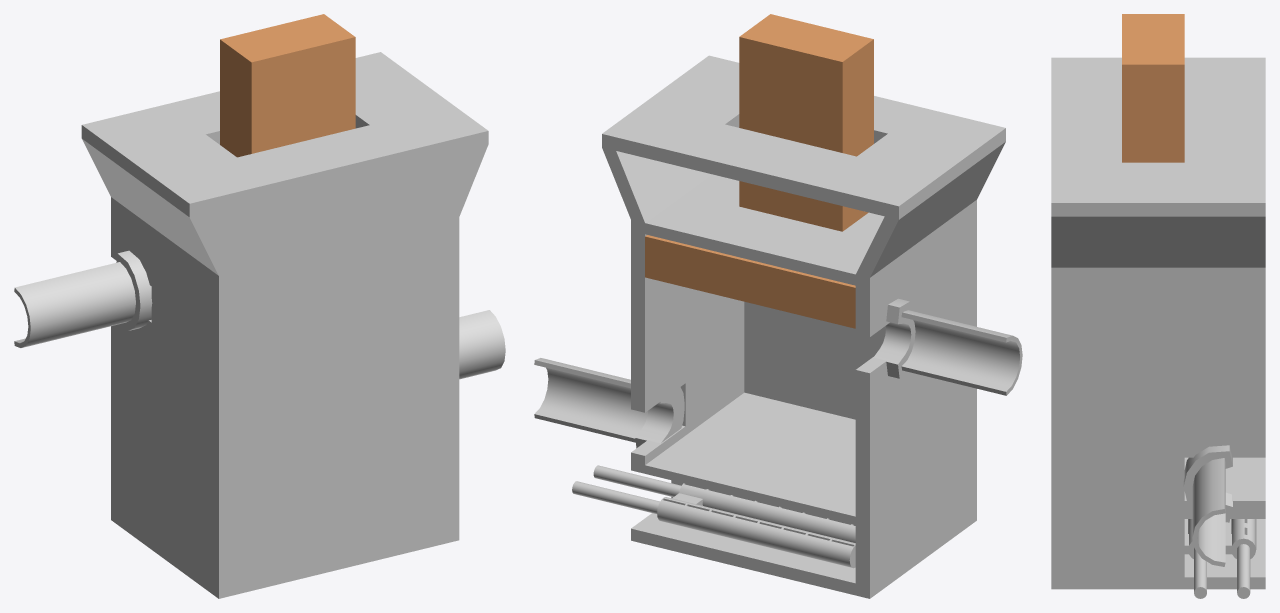
Rendered from SuperChargerREV0805.fbx.
3 views of the same model, side by side, from view 1: azimuth 30°, elevation 25°; view 2: azimuth 150°, elevation 25°; view 3: azimuth 270°, elevation 25° (orthographic).
Parts seen in each view (by area): view 1: main body, PISTON, our source pipe, source pipe; view 2: main body, PISTON, gas source, our source pipe, source pipe; view 3: main body, PISTON, source pipe, gas source.
Boxes of the visible parts, x1=… form: main body: x1=81, y1=52, x2=488, y2=598; PISTON: x1=220, y1=14, x2=355, y2=157; our source pipe: x1=14, y1=250, x2=152, y2=347; source pipe: x1=459, y1=310, x2=505, y2=379; main body: x1=602, y1=55, x2=1005, y2=598; PISTON: x1=645, y1=14, x2=873, y2=328; gas source: x1=572, y1=465, x2=855, y2=568; our source pipe: x1=873, y1=298, x2=1022, y2=395; source pipe: x1=534, y1=358, x2=684, y2=448; main body: x1=1051, y1=57, x2=1265, y2=589; PISTON: x1=1122, y1=14, x2=1184, y2=162; source pipe: x1=1183, y1=445, x2=1232, y2=566; gas source: x1=1184, y1=519, x2=1256, y2=598.
Bounding box in the file's own units: 4081 × 4055 × 1604.
